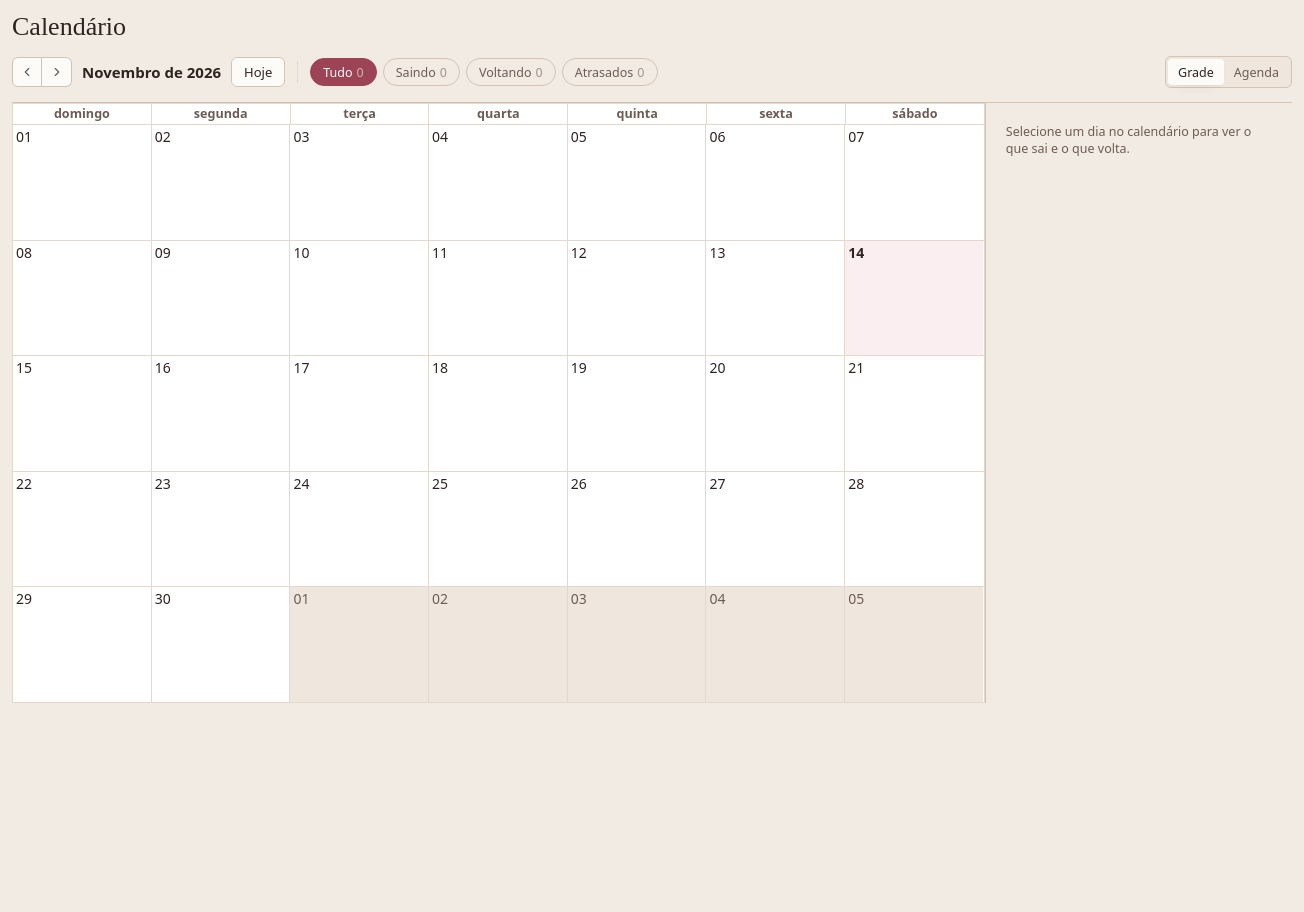
Test: CalendarPage › shows the selected day in a side panel instead of swapping the screen
expect the table with class "rbc-month-view" is shown: met, box [12,103,985,703]
expect the text "Selecione um dia no calendário para ver o que sai e o que volta." is shown: met, box [1006,123,1272,157]
Step 1. Click the 1st button with class "rbc-button-link" → click(24, 137), box [16,127,32,147]
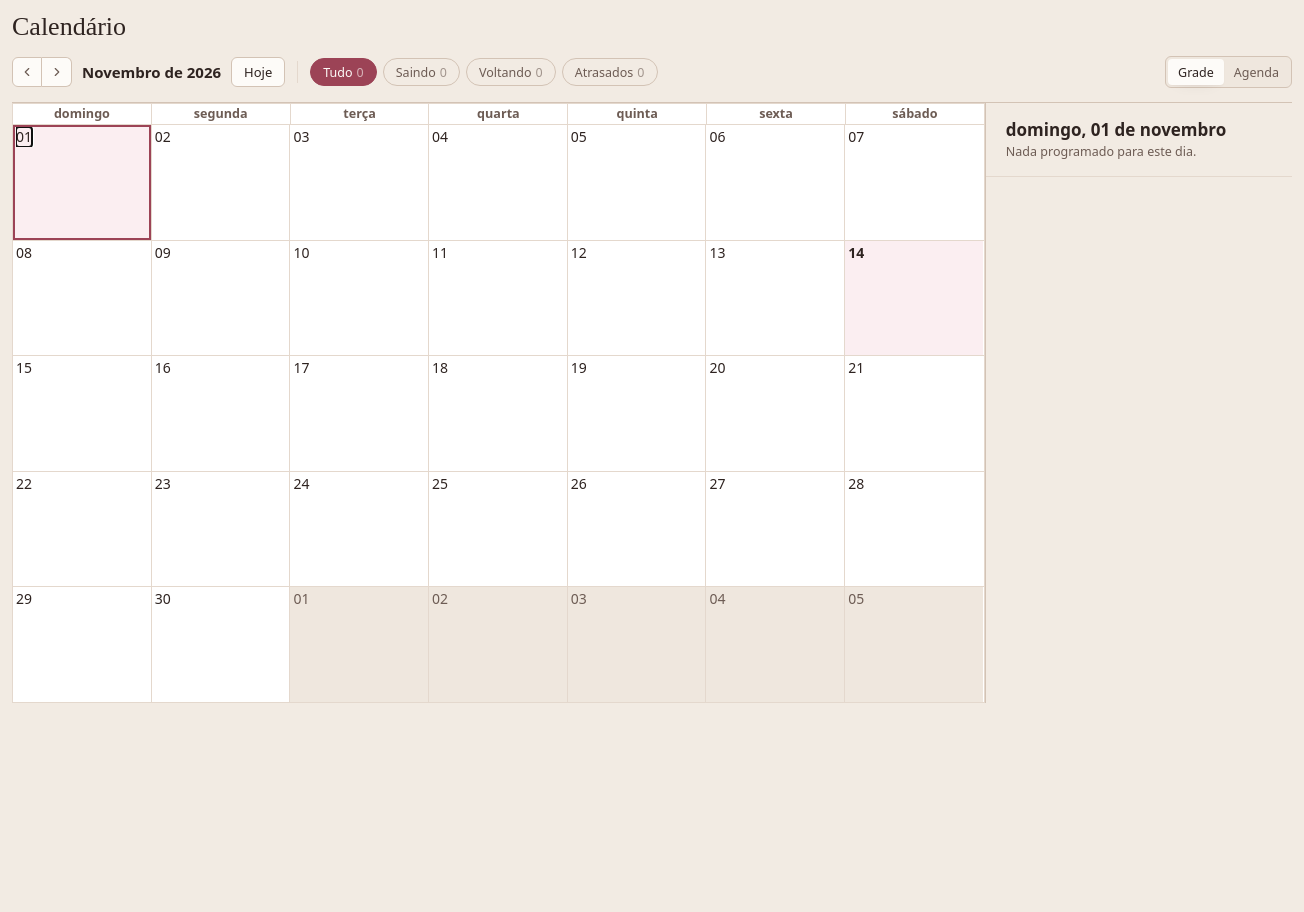
expect the table with class "rbc-month-view" is shown: met, box [12,103,985,703]
expect the text "Selecione um dia no calendário para ver o que sai e o que volta." is gone: met
